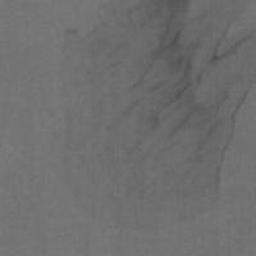Water spot: (59, 0, 256, 232)
